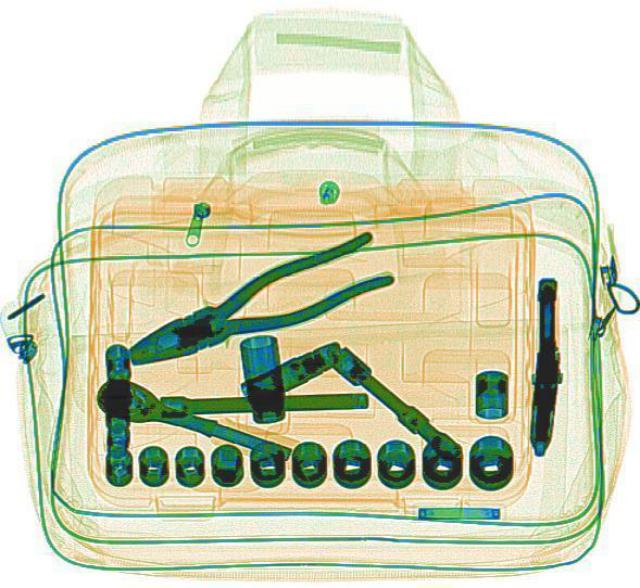Gun: (526, 275, 564, 454)
Pliers: (110, 227, 400, 383)
